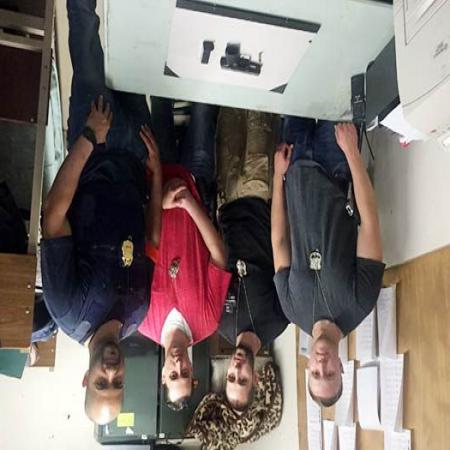Pistol: (220, 38, 268, 82)
